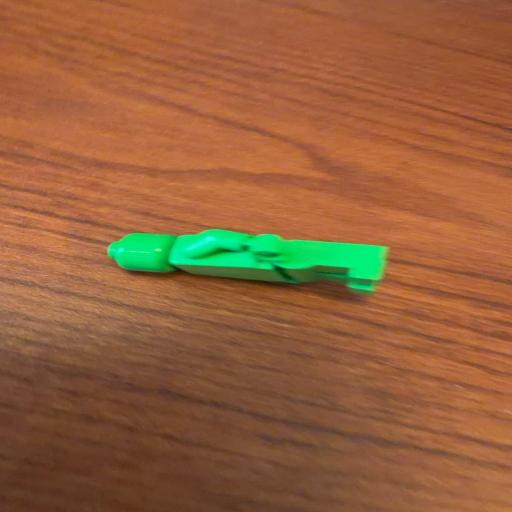UnoQ-minifig-detector: (108, 229, 388, 294)
